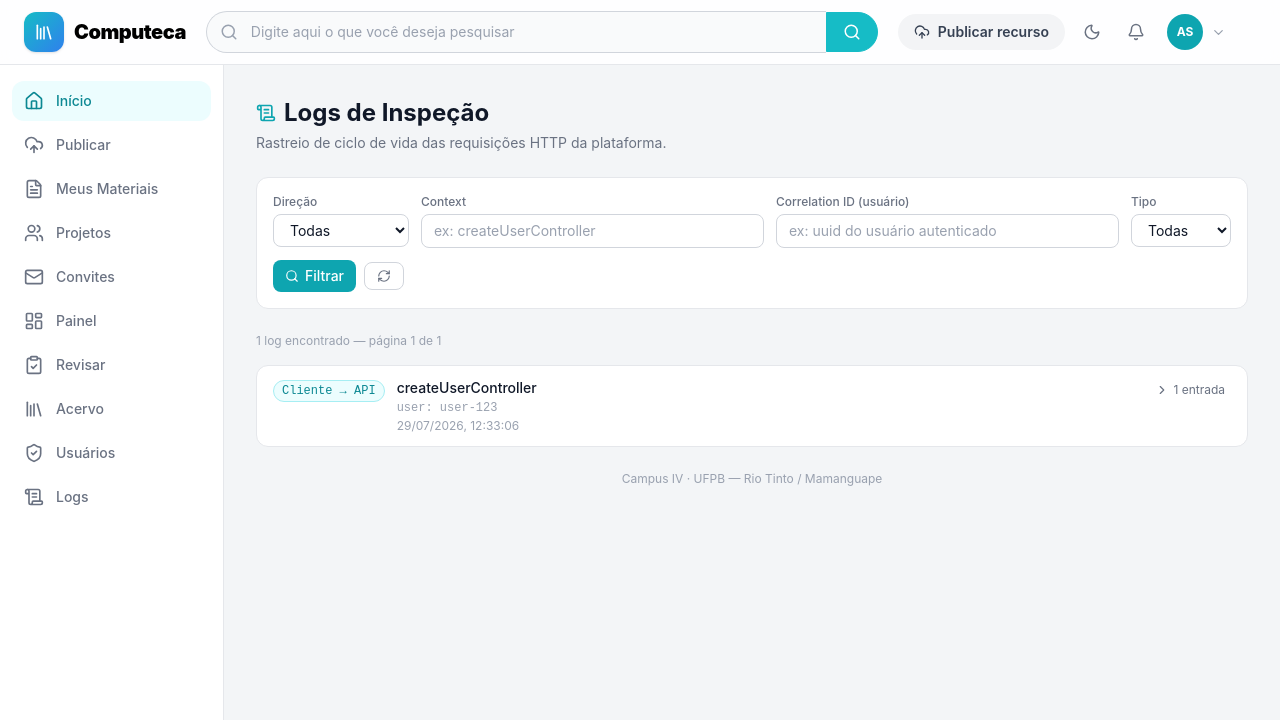
Scenario: AdminLogsPage › aplica e limpa filtros
Expected: the text "createUserController" is shown, [397,379,537,396]
Step 1. Type "authController" into the field with placeholder "ex: createUserController" → (592, 231), box [421,214,764,248]
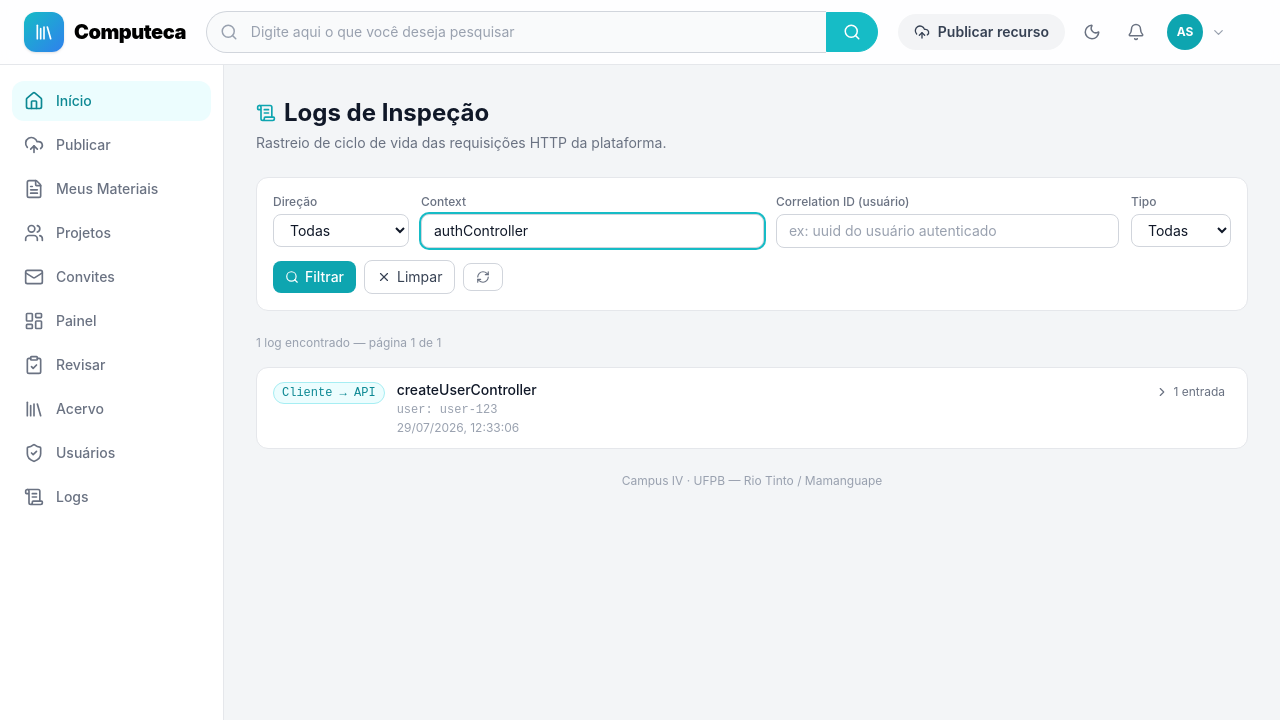
Step 2. Click the button "Filtrar" → (314, 277), box [273,261,356,293]
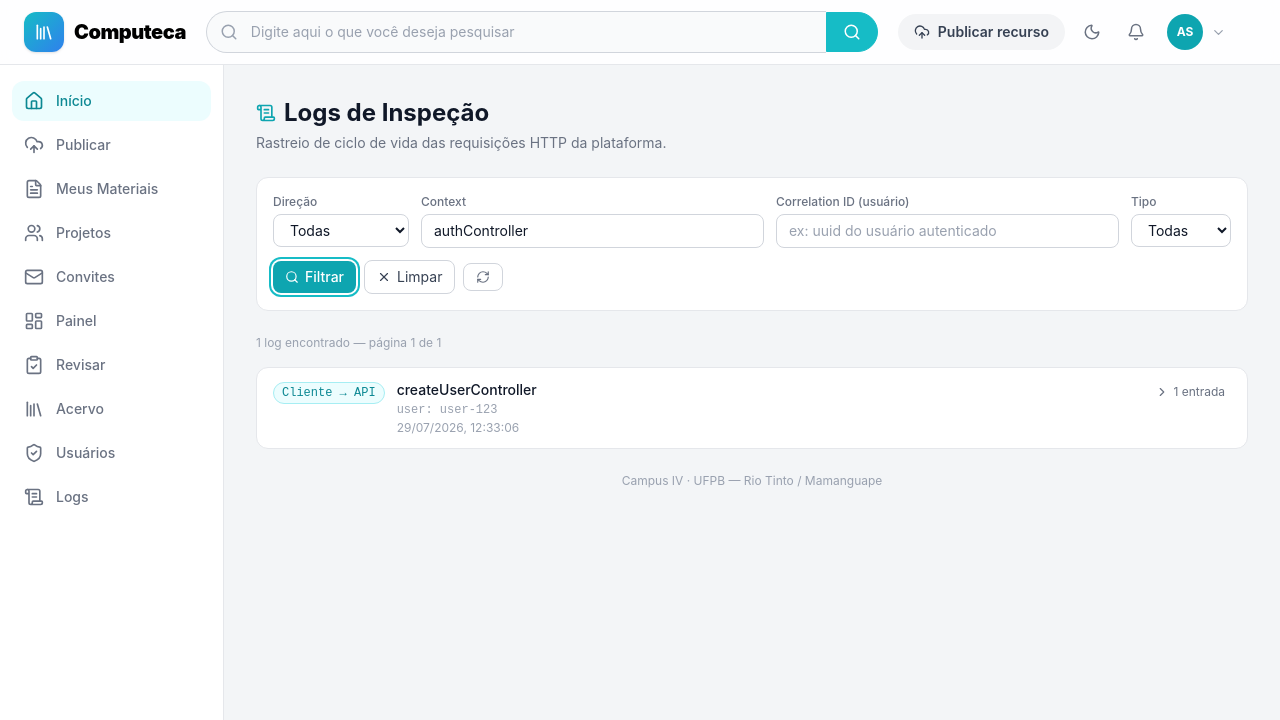
Note: "Limpar" aparece quando há filtro
Step 3. Click the button "Limpar" → (410, 277), box [364,260,455,294]
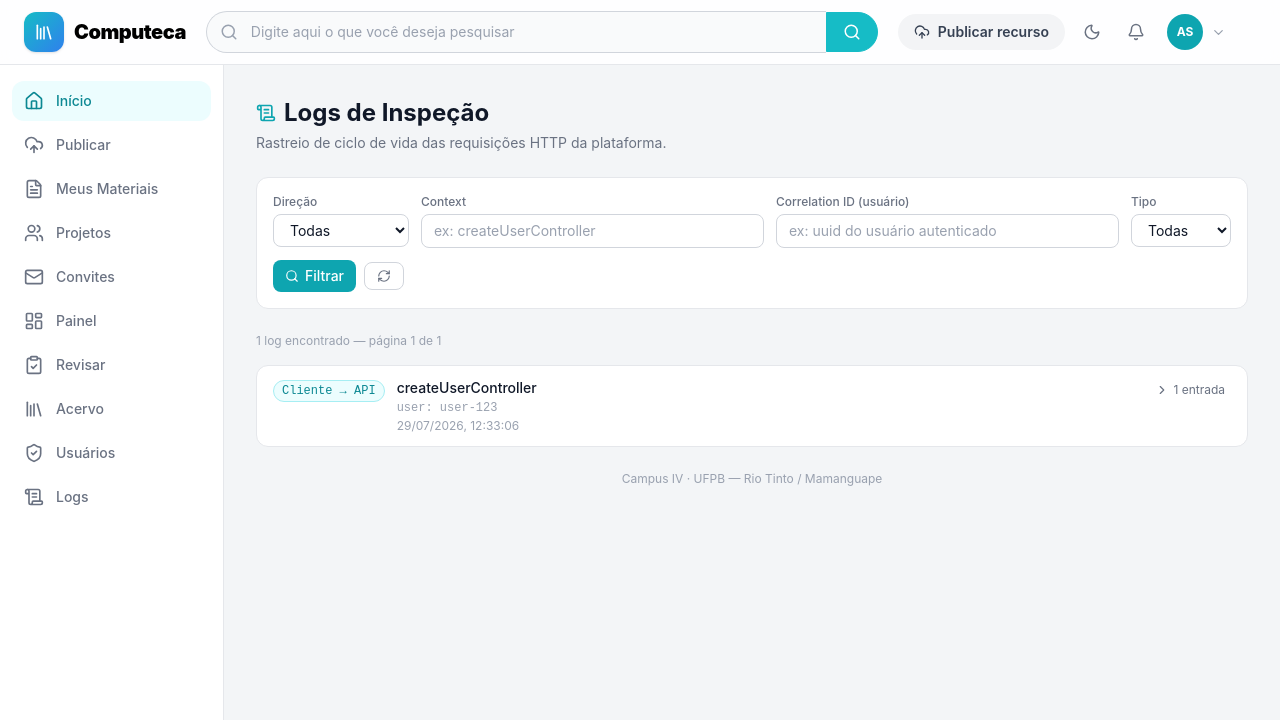
Now the field with placeholder "ex: createUserController" is empty, box [421,214,764,248]
